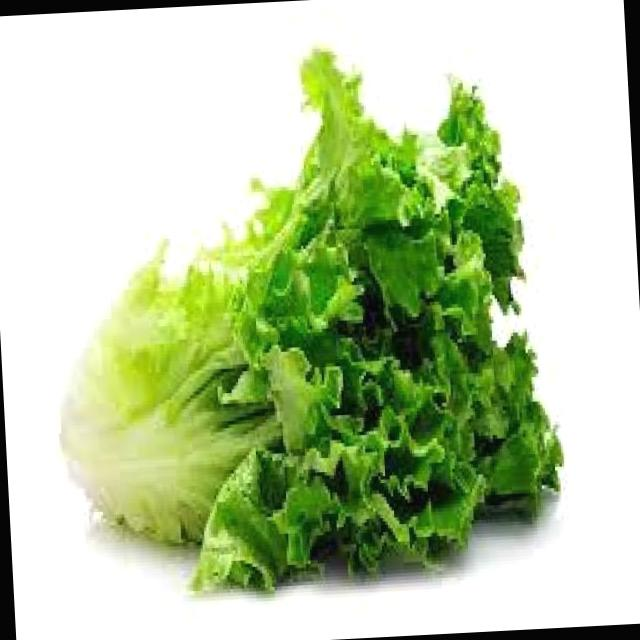Lettuce-Ready-to-Harvest: (65, 52, 560, 589)
